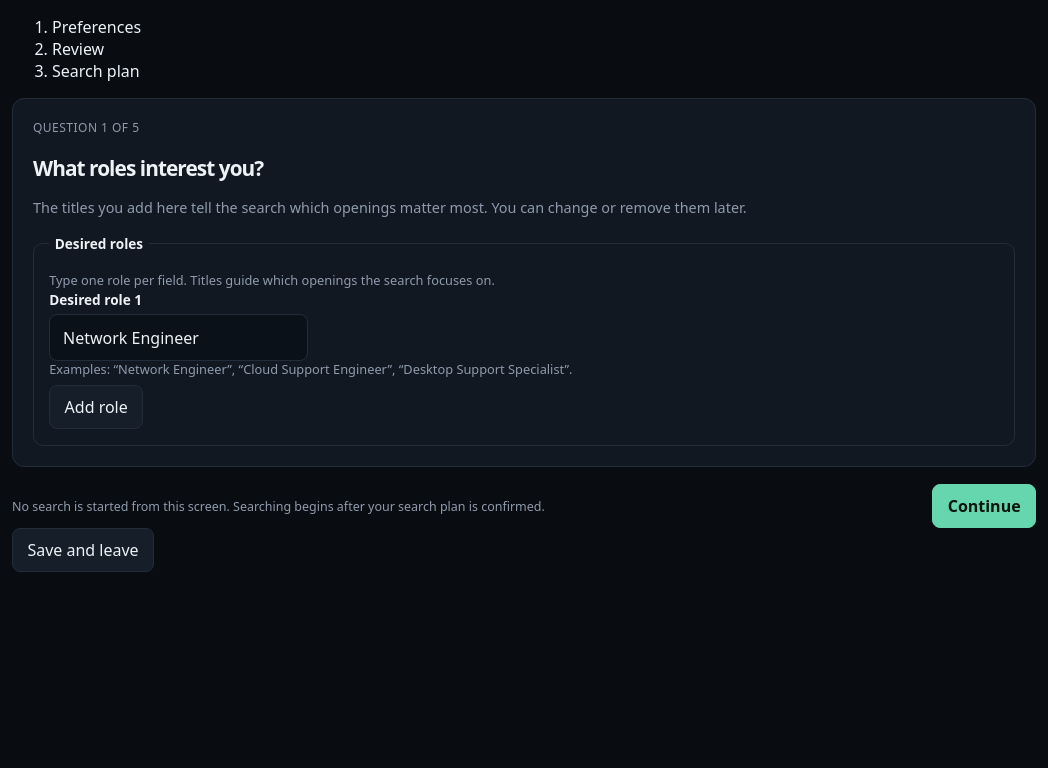
Test case: OnboardingPage â€” Save and leave actually leaves › does not navigate when the edit session cannot be ended after a successful save
The width and height of the screenshot is (1048, 768).
Click the button with test id "onboarding-save-and-leave": (83, 550) [12, 528, 154, 572]
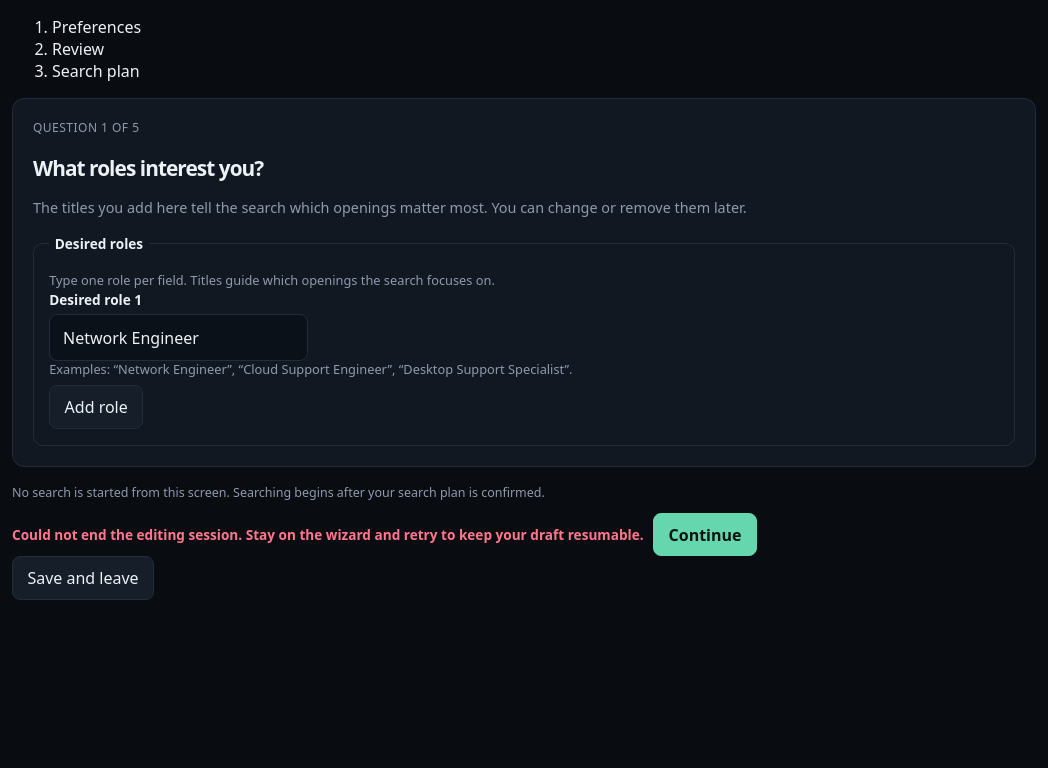
Expected: the heading "What roles interest you?" is shown, [33, 154, 263, 182]
Now the text "end the editing session" is shown, box [12, 525, 644, 544]
